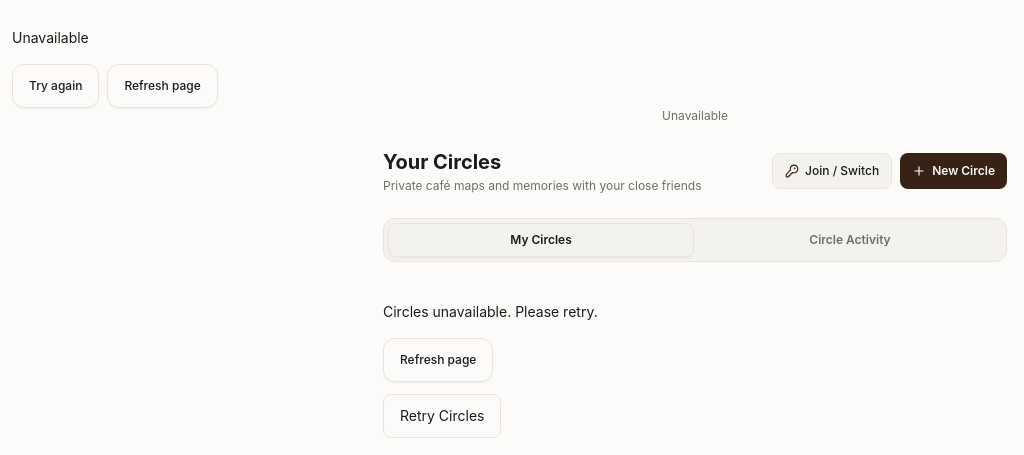
Test case: retries an initial unavailable membership request from the hub
Click the button "Retry Circles" at (442, 416), box [383,394,501,438]
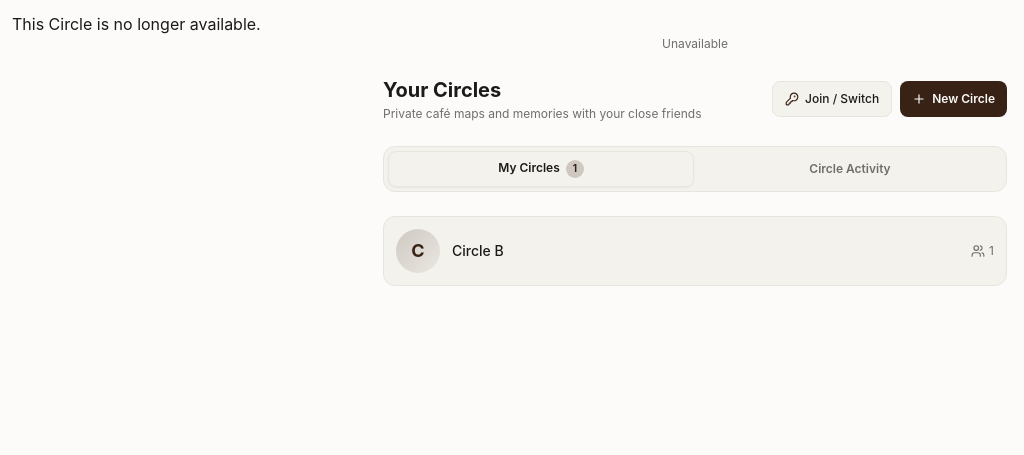
Result: the text "Circle B" is shown at [452,242,504,259]
